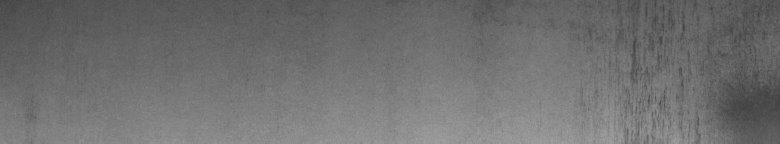ka: (626, 4, 699, 126)
